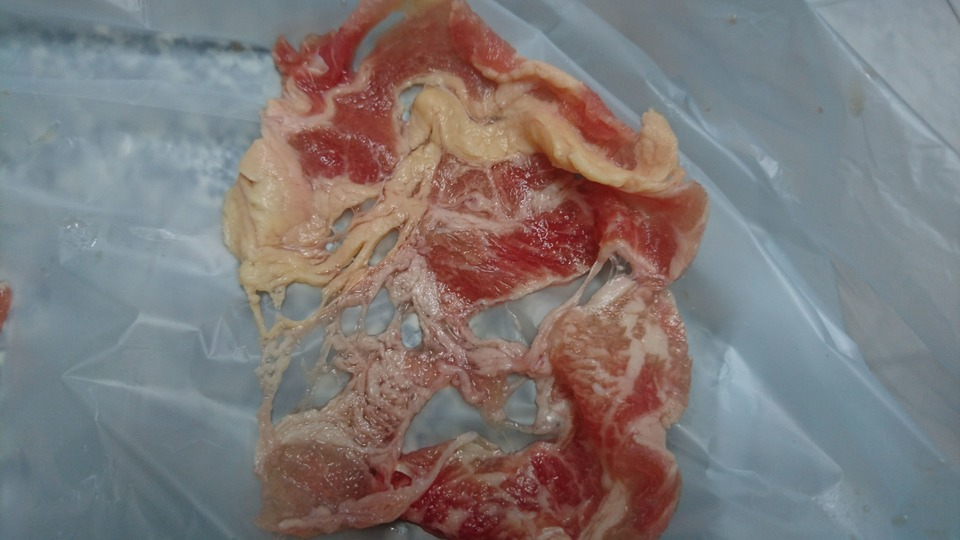restructured meat: (213, 28, 714, 528)
